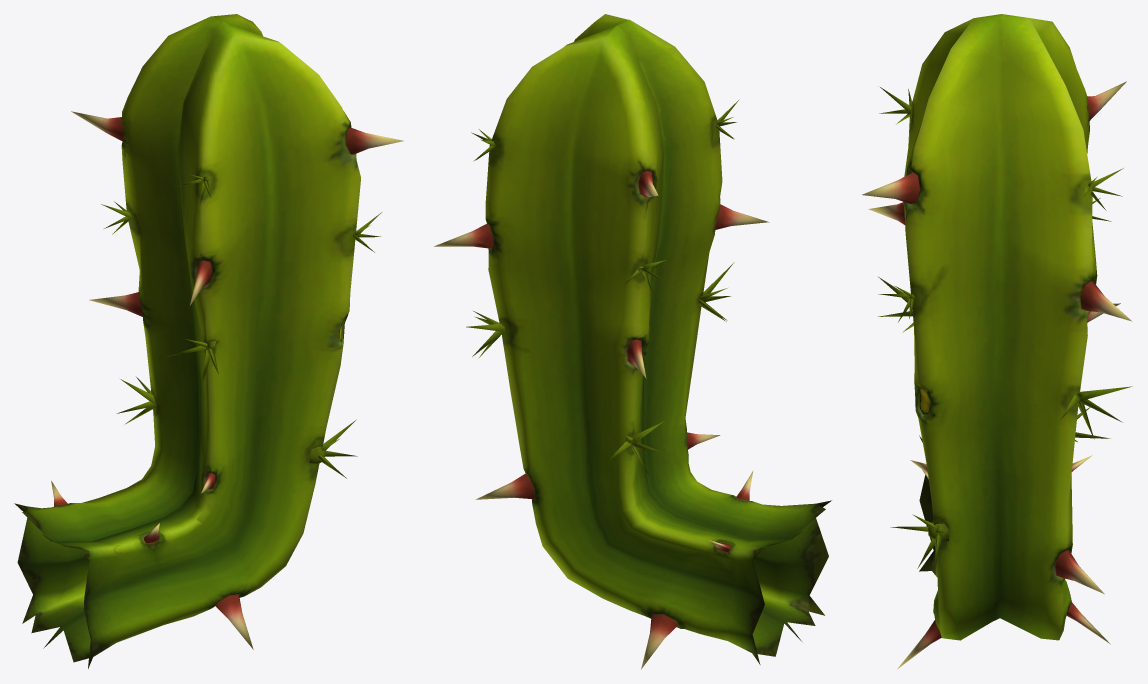
File: cactus_brazo_izq.obj
The picture shows the model from 3 angles, left to right: view 1: azimuth 30°, elevation 25°; view 2: azimuth 150°, elevation 25°; view 3: azimuth 270°, elevation 25°; orthographic projection. The views are drawn at different scales.
Parts seen in each view (by area): view 1: cactus_brazo_izq; view 2: cactus_brazo_izq; view 3: cactus_brazo_izq.
Boxes of the visible parts, x1,y1,x2,y2 form: cactus_brazo_izq: (14, 14, 403, 668); cactus_brazo_izq: (434, 14, 831, 669); cactus_brazo_izq: (862, 14, 1132, 669).
Bounding box in the file's own units: 0.3224 × 0.5867 × 0.216.
